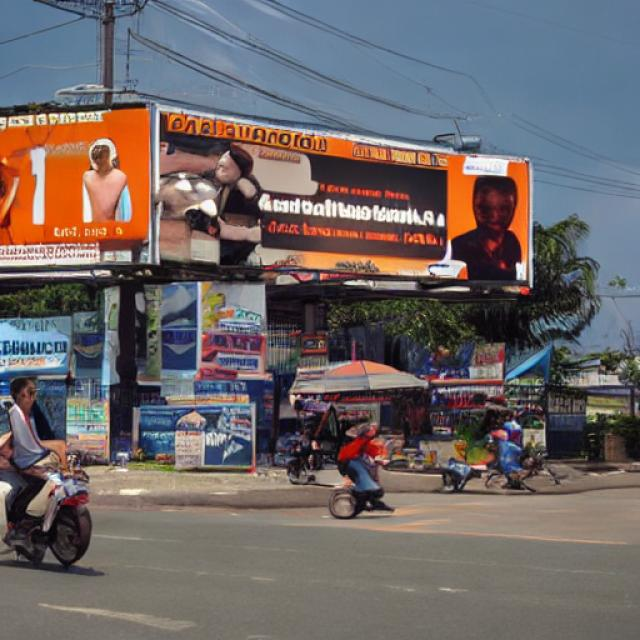Billboard: (154, 97, 533, 283), (0, 96, 151, 270)
